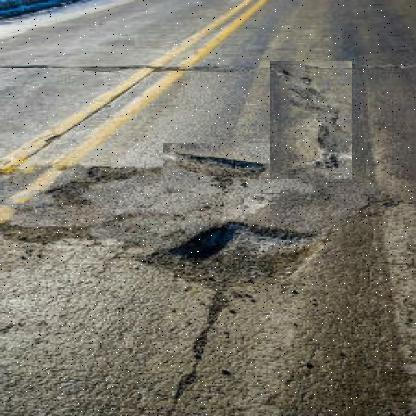damage: (270, 61, 353, 180)
pothole: (129, 207, 342, 304), (163, 143, 281, 194)
